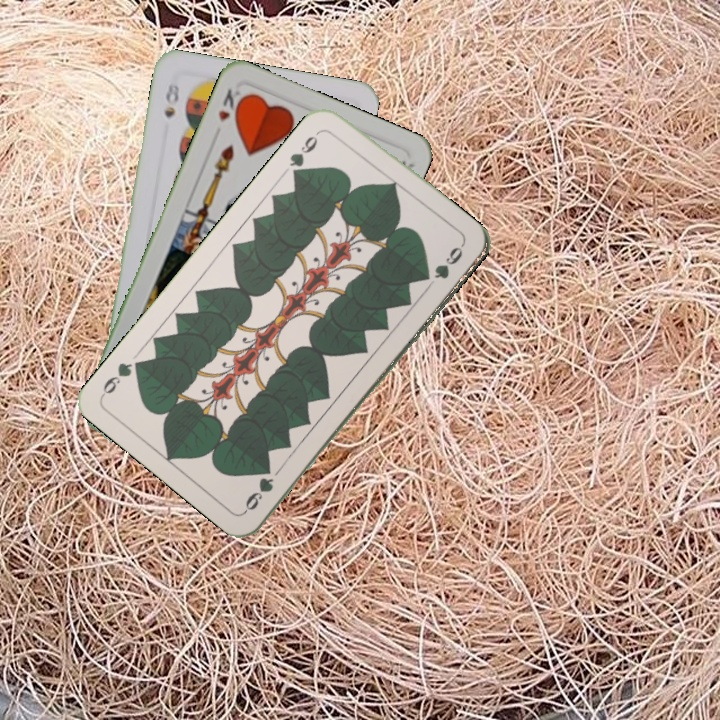G9: (285, 126, 326, 180), (240, 473, 276, 515)
HK: (214, 84, 248, 125)
S8: (160, 79, 182, 121)
